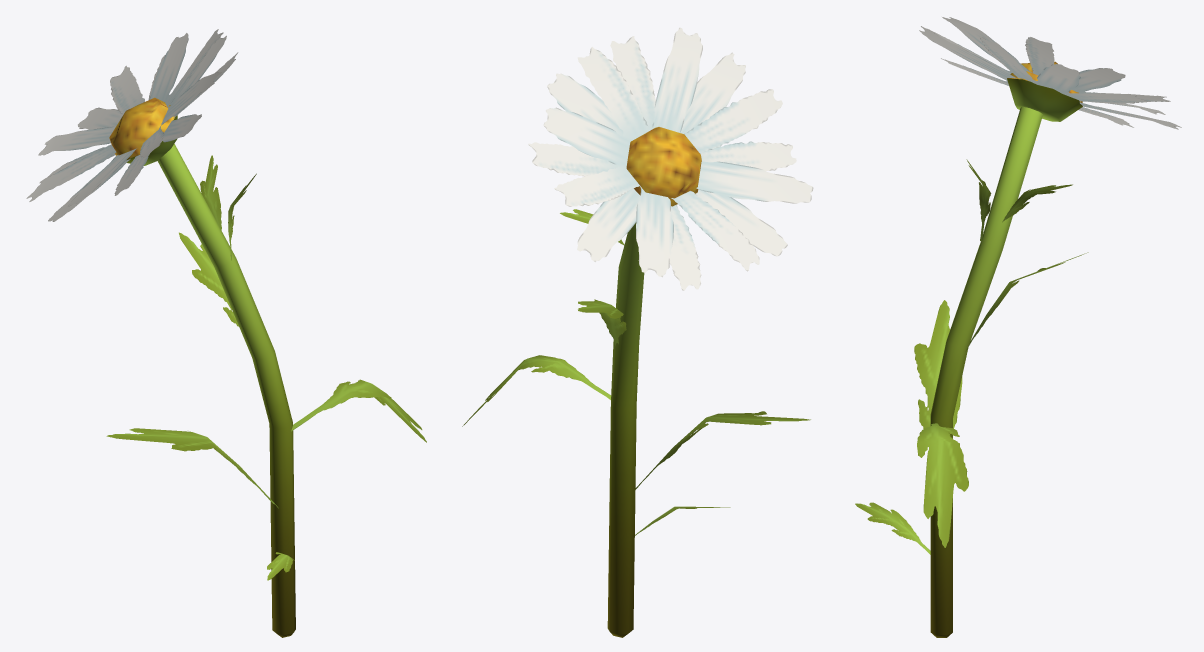
The model's file is Daisy03.fbx.
3 renders of one model, left to right at view 1: azimuth 30°, elevation 25°; view 2: azimuth 150°, elevation 25°; view 3: azimuth 270°, elevation 25°, orthographic. The views are drawn at different scales.
Parts seen in each view (by area): view 1: Daisy03; view 2: Daisy03; view 3: Daisy03.
Boxes of the visible parts, bbox=[...] form: Daisy03: bbox=[26, 29, 426, 637]; Daisy03: bbox=[462, 27, 813, 637]; Daisy03: bbox=[855, 17, 1181, 637].
Bounding box in the file's own units: 0.4999 × 0.7879 × 0.3973.
1 material, 1 textured.
